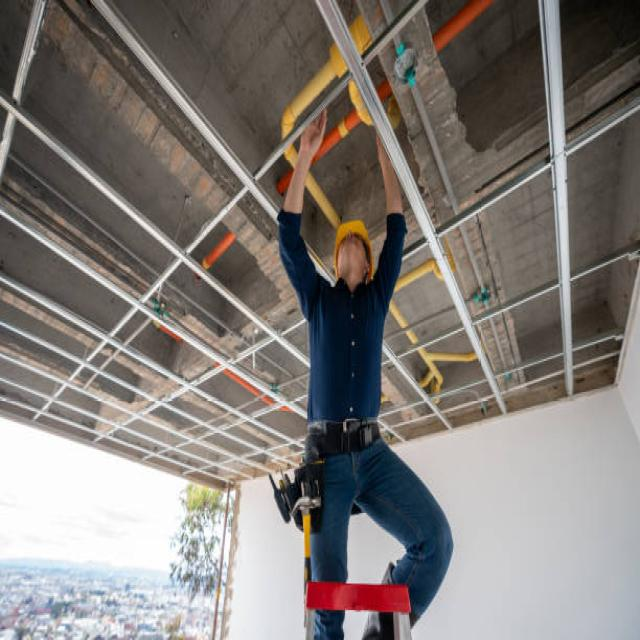Plumbing and Electrical: (8, 9, 322, 493), (330, 3, 622, 470)
